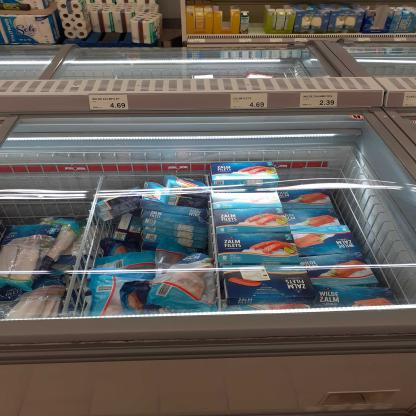prtg: (90, 95, 130, 111), (231, 95, 269, 110), (300, 94, 339, 108), (404, 93, 416, 108)
